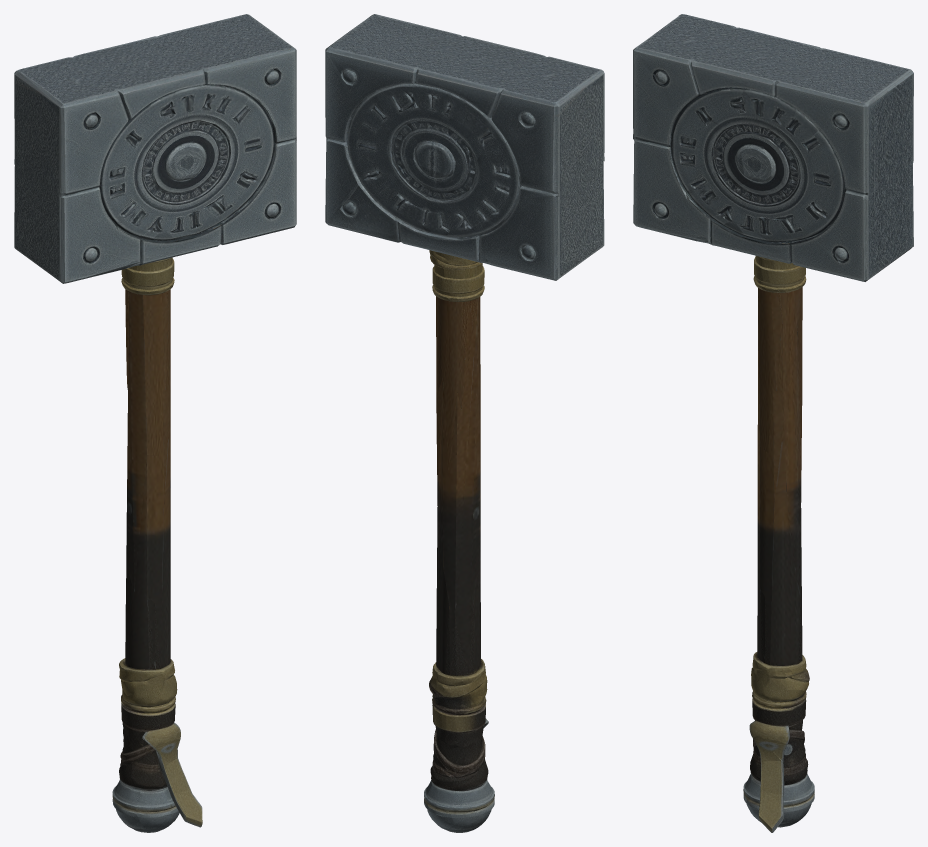
The model's file is Meshy_AI_Weapon_dwarf_warhammer_01a0e88a_texture.glb.
3 renders of one model, left to right at view 1: azimuth 30°, elevation 25°; view 2: azimuth 150°, elevation 25°; view 3: azimuth 330°, elevation 25°, orthographic.
Bounding box in the file's own units: 0.6077 × 1.9 × 0.2367.
Materials: 1 (1 with a texture image).
